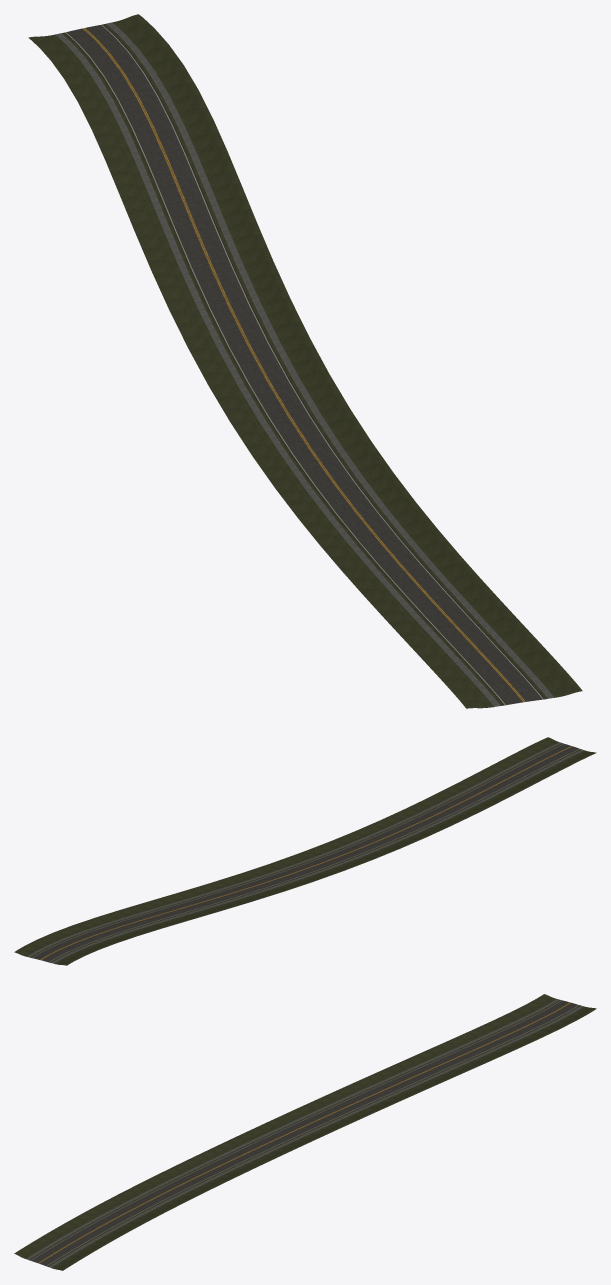
The model's file is american_road.glb.
The picture shows the model from 3 angles, top to bottom: view 1: azimuth 30°, elevation 25°; view 2: azimuth 150°, elevation 25°; view 3: azimuth 330°, elevation 25°; orthographic projection. The views are drawn at different scales.
Parts seen in each view (by area): view 1: Material2 (×3); view 2: Material2 (×3); view 3: Material2 (×3).
Boxes of the visible parts, <box> form: Material2 (×3): <box>28,14,582,708</box>; Material2 (×3): <box>14,737,596,965</box>; Material2 (×3): <box>14,994,596,1270</box>.
Size of the model in its own units: 3212 by 370 by 10070.
Materials: 3 (3 with a texture image).
